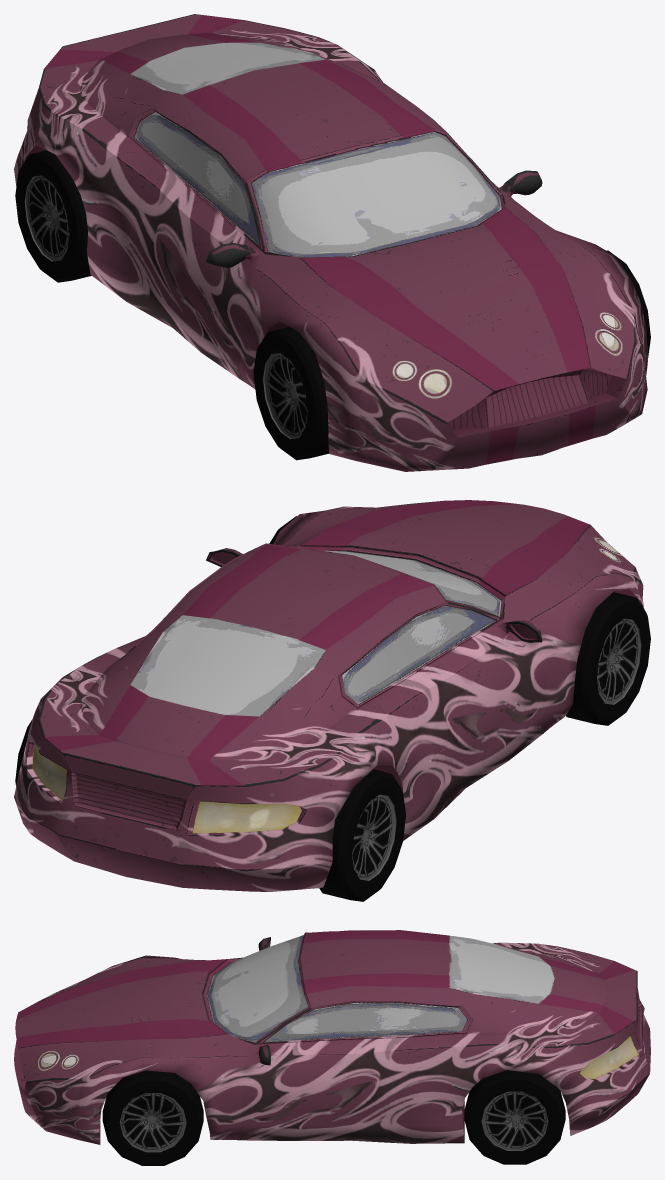
The picture shows the model from 3 angles, top to bottom: view 1: azimuth 30°, elevation 25°; view 2: azimuth 150°, elevation 25°; view 3: azimuth 270°, elevation 25°; orthographic projection. The views are drawn at different scales.
Parts seen in each view (by area): view 1: Vw, Vw_Teker; view 2: Vw, Vw_Teker; view 3: Vw, Vw_Teker.
Boxes of the visible parts, bbox=[...] form: Vw: bbox=[14, 14, 647, 471]; Vw_Teker: bbox=[15, 150, 650, 460]; Vw: bbox=[14, 500, 644, 891]; Vw_Teker: bbox=[15, 516, 650, 901]; Vw: bbox=[14, 930, 650, 1144]; Vw_Teker: bbox=[102, 1070, 565, 1165].
Bounding box in the file's own units: 190 × 110 × 417.
Materials: 2 (2 with a texture image).
